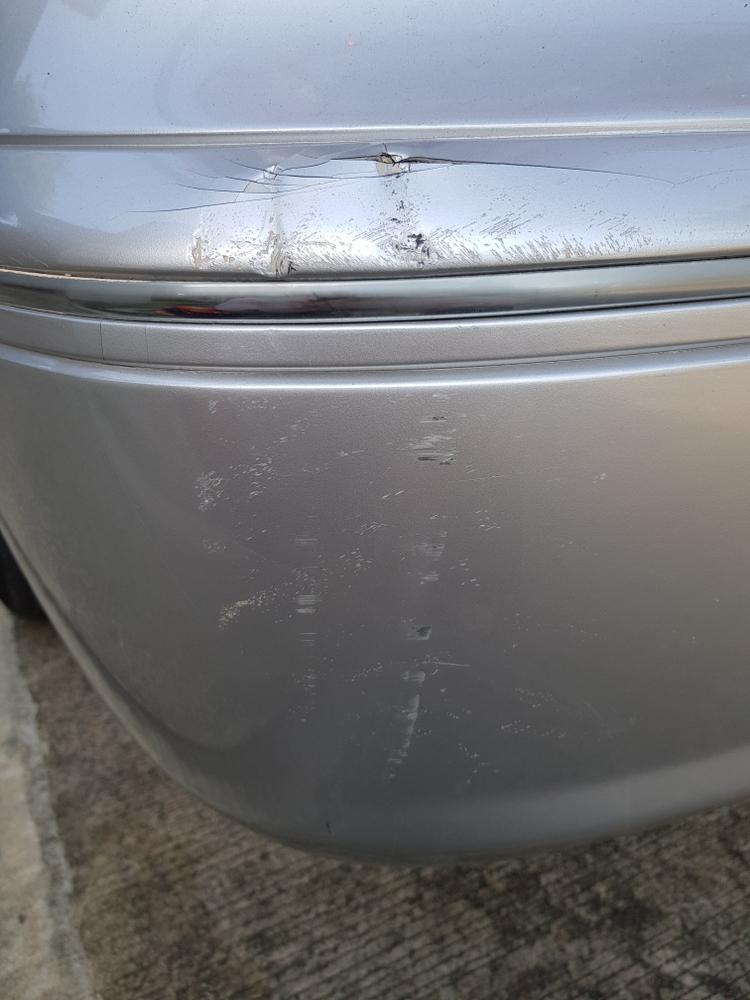scratch: (186, 389, 498, 798), (170, 208, 663, 276)
